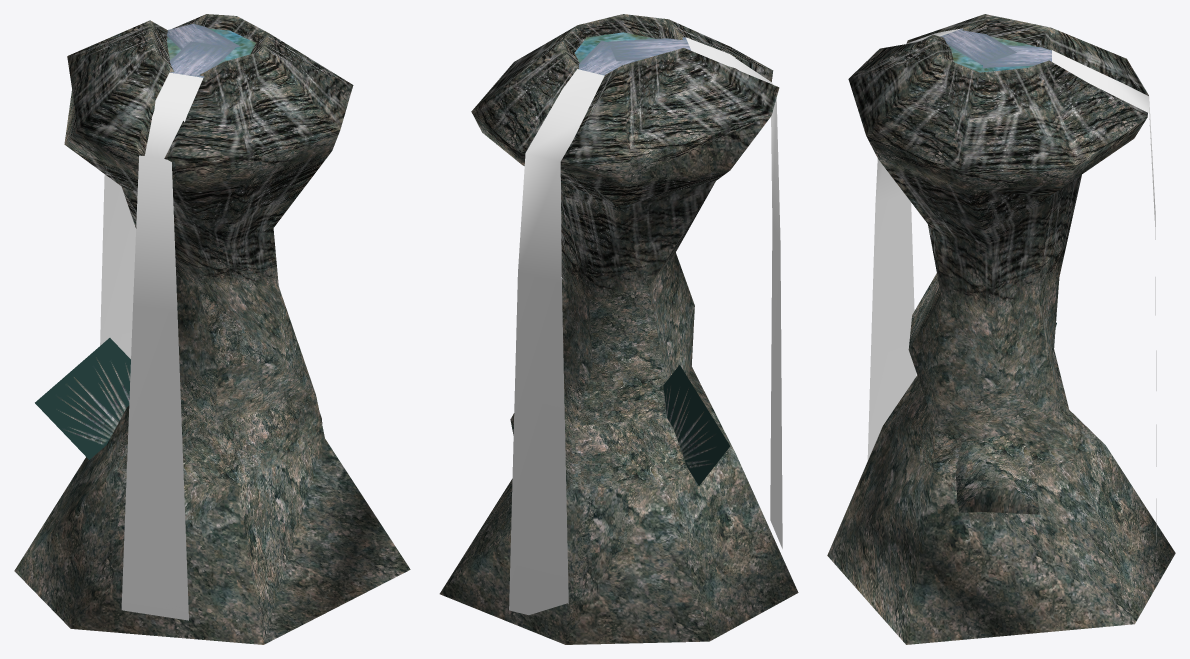
File: rock_crystl_geyser_sm_l3.fbx
The picture shows the model from 3 angles, left to right: view 1: azimuth 30°, elevation 25°; view 2: azimuth 150°, elevation 25°; view 3: azimuth 270°, elevation 25°; orthographic projection. The views are drawn at different scales.
Parts seen in each view (by area): view 1: mesh_node; view 2: mesh_node; view 3: mesh_node.
Part boxes in pixels (box(x1,y1,x2,y2)): mesh_node: box(14, 14, 410, 644); mesh_node: box(439, 14, 798, 644); mesh_node: box(827, 14, 1175, 644).
Size of the model in its own units: 10.55 by 17.27 by 10.32.
